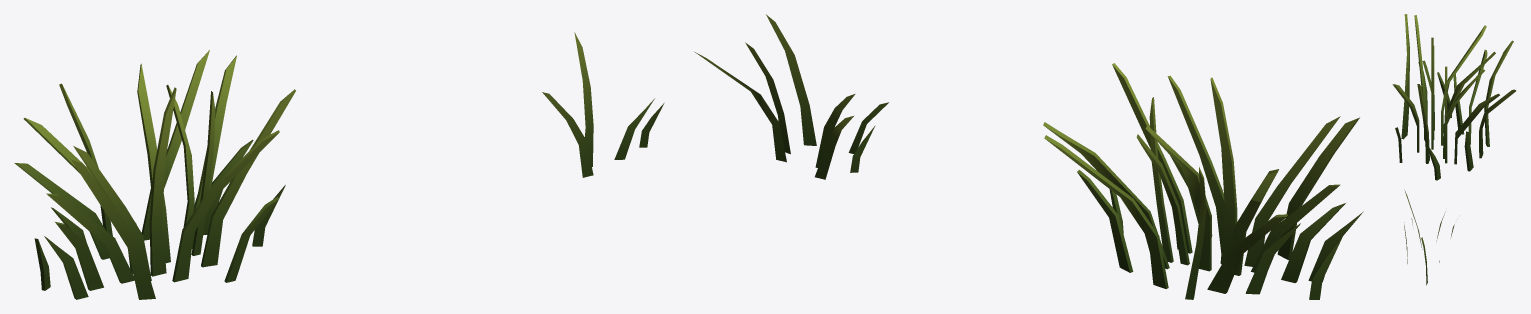
File: Grass1.glb
3 views of the same model, side by side, from view 1: azimuth 30°, elevation 25°; view 2: azimuth 150°, elevation 25°; view 3: azimuth 270°, elevation 25° (orthographic). The views are drawn at different scales.
Parts seen in each view (by area): view 1: Grass_Large_Extruded, Grass_Small; view 2: Grass_Large_Extruded, Grass_Small; view 3: Grass_Large_Extruded, Grass_Small.
Part boxes in pixels (x1=…): Grass_Large_Extruded: x1=14, y1=50, x2=295, y2=299; Grass_Small: x1=542, y1=32, x2=664, y2=177; Grass_Large_Extruded: x1=1043, y1=63, x2=1363, y2=299; Grass_Small: x1=695, y1=14, x2=888, y2=179; Grass_Large_Extruded: x1=1392, y1=14, x2=1515, y2=180; Grass_Small: x1=1404, y1=190, x2=1454, y2=285.
Size of the model in its own units: 1.84 by 0.5113 by 0.4973.
1 material, 1 textured.
